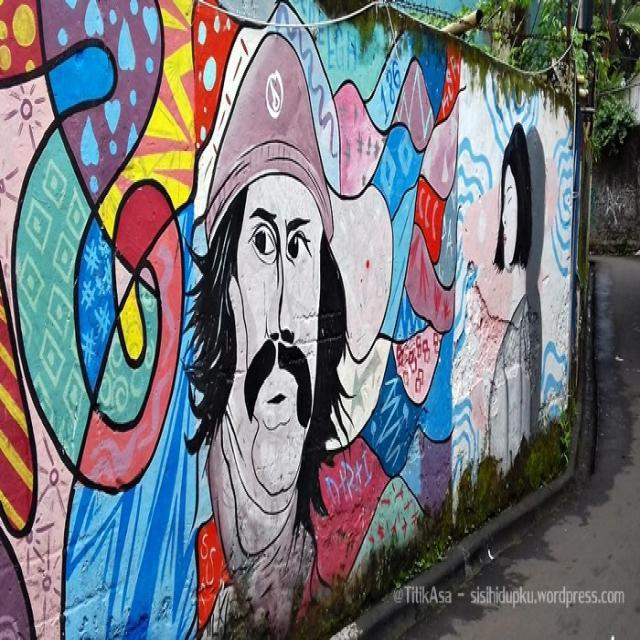-: (195, 0, 460, 634), (0, 0, 196, 640), (453, 47, 570, 484), (604, 186, 627, 232)
